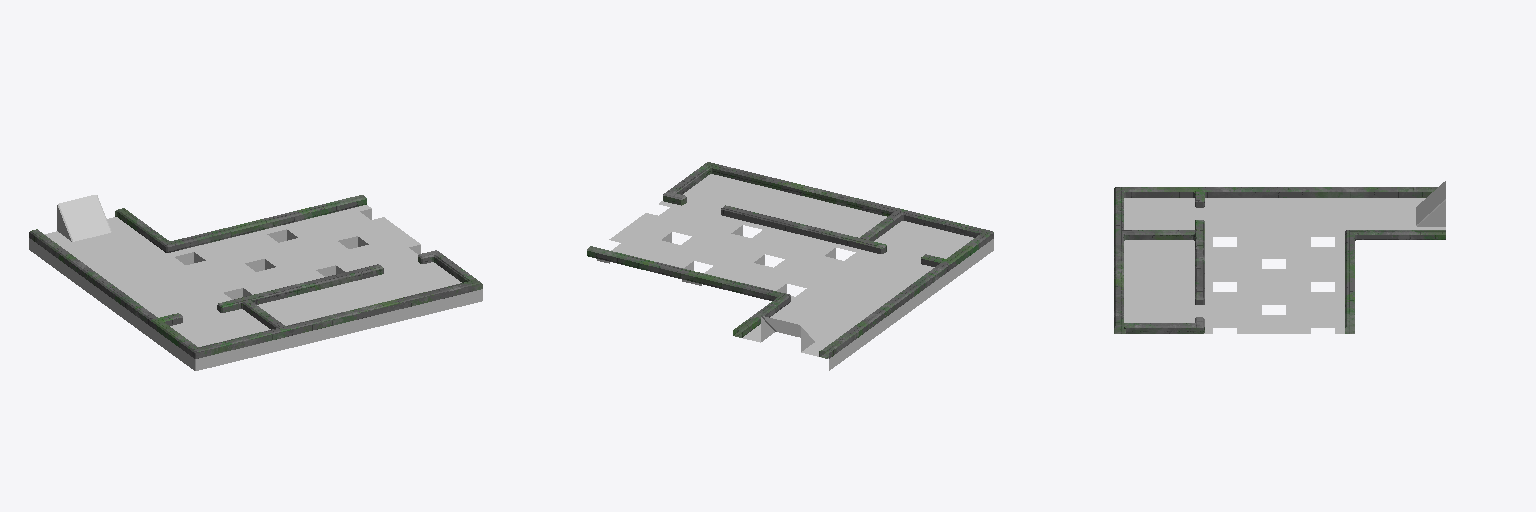
The picture shows the model from 3 angles: view 1: azimuth 30°, elevation 25°; view 2: azimuth 150°, elevation 25°; view 3: azimuth 270°, elevation 25°; orthographic projection.
Visible parts, largest first — view 1: Cube.059, Cube.061, Cube.060; view 2: Cube.059, Cube.061, Cube.060; view 3: Cube.059, Cube.061, Cube.060.
Boxes of the visible parts, box(x1,y1,x2,y2) form: Cube.059: box(29, 195, 482, 370); Cube.061: box(29, 229, 482, 358); Cube.060: box(115, 195, 366, 252); Cube.059: box(597, 174, 993, 370); Cube.061: box(663, 162, 993, 358); Cube.060: box(587, 246, 790, 337); Cube.059: box(1124, 181, 1445, 333); Cube.061: box(1114, 187, 1437, 333); Cube.060: box(1345, 230, 1445, 333).
Size of the model in its own units: 99 by 13 by 99.
2 materials, 1 textured.